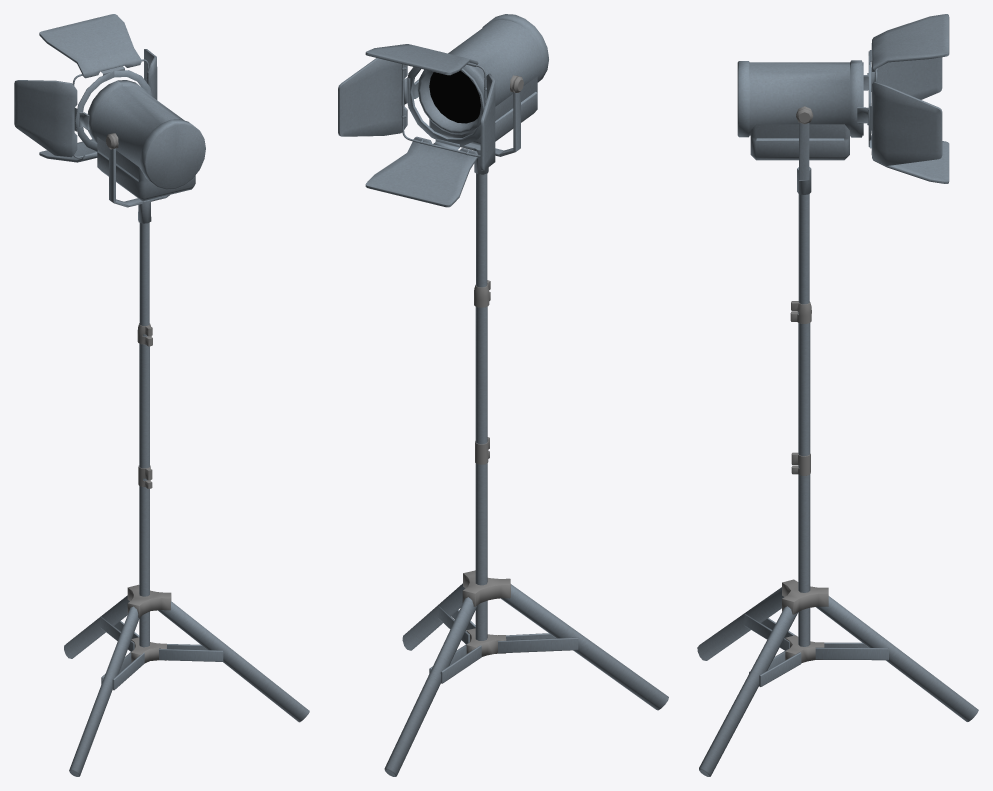
File: Studio Spotlight.fbx
3 views of the same model, side by side, from view 1: azimuth 30°, elevation 25°; view 2: azimuth 150°, elevation 25°; view 3: azimuth 270°, elevation 25° (orthographic). The views are drawn at different scales.
Parts seen in each view (by area): view 1: Studio Spotlight; view 2: Studio Spotlight; view 3: Studio Spotlight.
Part boxes in pixels (x1,y1,x2,y2): Studio Spotlight: (14,14,309,776); Studio Spotlight: (338,14,668,776); Studio Spotlight: (697,14,978,776).
Bounding box in the file's own units: 107 × 274 × 102.
